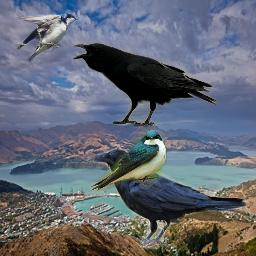Crow: (87, 148, 249, 250), (73, 43, 218, 128)
Swallow: (89, 130, 167, 191), (12, 12, 78, 62)
